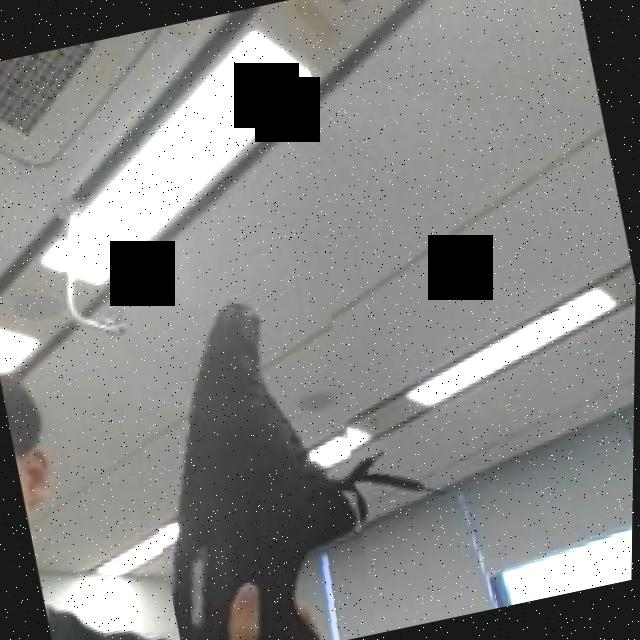shoe: (113, 273, 401, 640)
